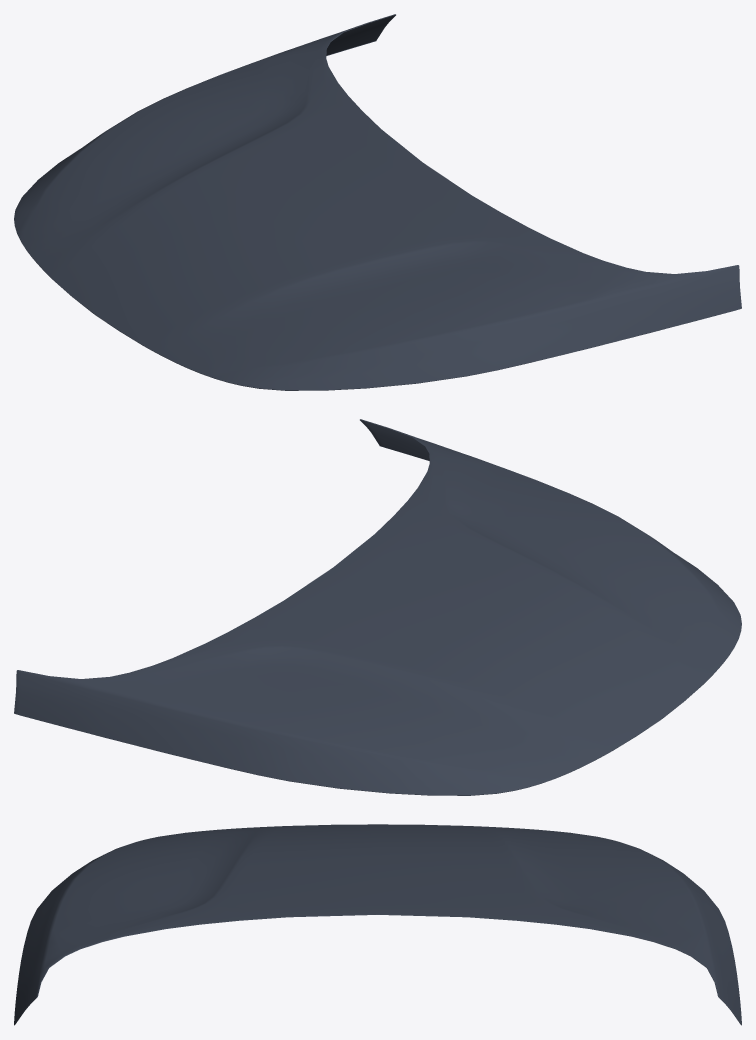
The model's file is FrontCover_control.FBX.
3 renders of one model, top to bottom at view 1: azimuth 30°, elevation 25°; view 2: azimuth 150°, elevation 25°; view 3: azimuth 270°, elevation 25°, orthographic.
Visible parts, largest first — view 1: FrontCover01; view 2: FrontCover01; view 3: FrontCover01.
Boxes of the visible parts, x1,y1,x2,y2 form: FrontCover01: (14,14,741,390); FrontCover01: (14,419,741,795); FrontCover01: (14,824,741,1025).
Size of the model in its own units: 133 by 19.07 by 178.
